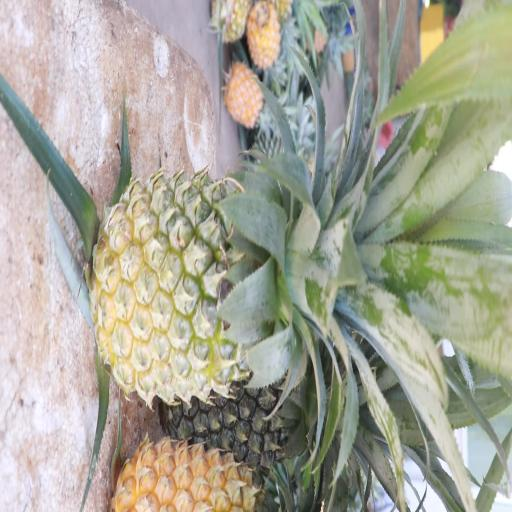------------------------------: (99, 167, 294, 400)
Pineapple - v8 v1: (114, 436, 281, 512), (221, 60, 263, 118), (247, 3, 284, 64)
